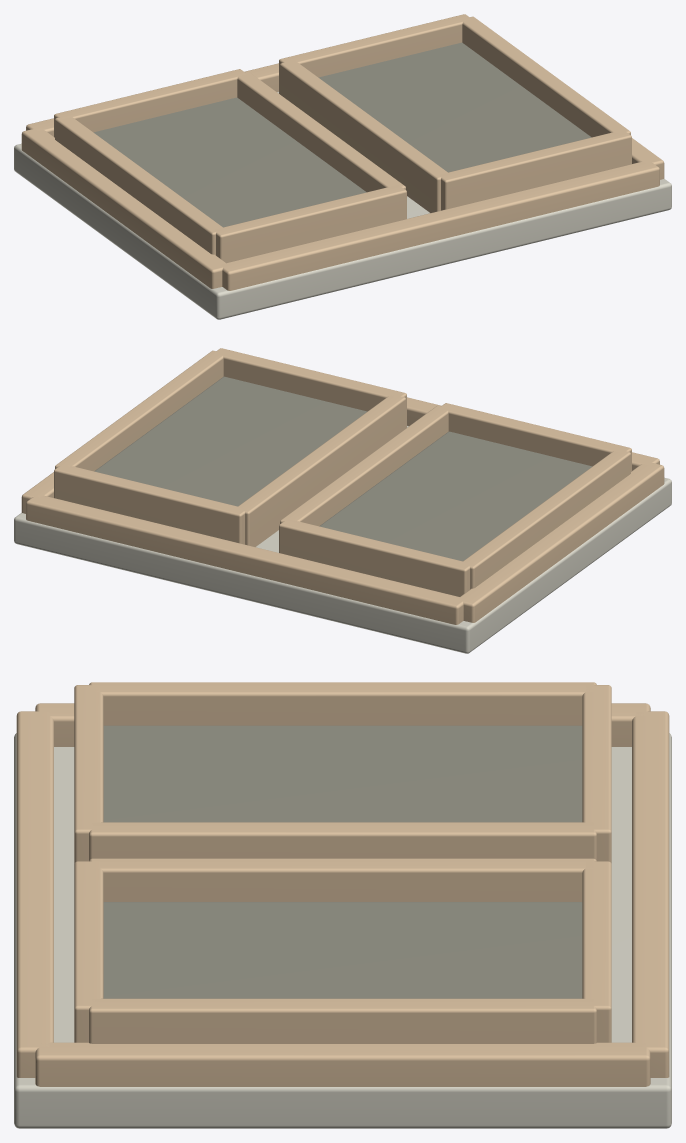
The model's file is kitchen-garden-frame.glb.
3 views of the same model, one above another, from view 1: azimuth 30°, elevation 25°; view 2: azimuth 150°, elevation 25°; view 3: azimuth 270°, elevation 25° (orthographic). The views are drawn at different scales.
Visible parts, largest first — view 1: Prepared soil.001, Prepared soil, Rounded stone footing.029, Sill beam.116, Bed side.002, Bed end.002, Sill beam.118, Bed end, Bed side, Bed side.003, Bed side.001, Bed end.003 (+3 smaller); view 2: Prepared soil.001, Prepared soil, Rounded stone footing.029, Sill beam.117, Bed side.002, Bed end.003, Sill beam.118, Bed end.001, Bed side, Bed side.003, Bed side.001, Bed end.002 (+3 smaller); view 3: Prepared soil, Prepared soil.001, Rounded stone footing.029, Sill beam.119, Bed side.003, Bed side, Bed side.002, Bed side.001, Sill beam.117, Sill beam.116, Bed end.002, Bed end.003 (+3 smaller).
Boxes of the visible parts, x1=… form: Prepared soil.001: x1=318, y1=42, x2=591, y2=172; Prepared soil: x1=93, y1=97, x2=366, y2=227; Rounded stone footing.029: x1=14, y1=92, x2=671, y2=319; Sill beam.116: x1=221, y1=161, x2=659, y2=290; Bed side.002: x1=280, y1=60, x2=447, y2=212; Bed end.002: x1=440, y1=132, x2=631, y2=210; Sill beam.118: x1=21, y1=129, x2=225, y2=288; Bed end: x1=215, y1=185, x2=406, y2=262; Bed side: x1=55, y1=117, x2=222, y2=255; Bed side.003: x1=462, y1=16, x2=630, y2=137; Bed side.001: x1=237, y1=71, x2=405, y2=192; Bed end.003: x1=279, y1=14, x2=470, y2=93; Prepared soil.001: x1=94, y1=376, x2=367, y2=506; Prepared soil: x1=319, y1=431, x2=592, y2=561; Rounded stone footing.029: x1=14, y1=426, x2=671, y2=653; Sill beam.117: x1=26, y1=495, x2=465, y2=624; Bed side.002: x1=238, y1=394, x2=405, y2=546; Bed end.003: x1=54, y1=466, x2=245, y2=544; Sill beam.118: x1=460, y1=463, x2=664, y2=622; Bed end.001: x1=279, y1=519, x2=470, y2=596; Bed side: x1=462, y1=451, x2=630, y2=589; Bed side.003: x1=55, y1=350, x2=223, y2=471; Bed side.001: x1=280, y1=405, x2=448, y2=526; Bed end.002: x1=214, y1=348, x2=406, y2=427; Prepared soil: x1=103, y1=725, x2=582, y2=822; Prepared soil.001: x1=103, y1=902, x2=582, y2=998; Rounded stone footing.029: x1=14, y1=733, x2=671, y2=1128; Sill beam.119: x1=35, y1=1042, x2=650, y2=1086; Bed side.003: x1=89, y1=998, x2=596, y2=1043; Bed side: x1=89, y1=682, x2=596, y2=725; Bed side.002: x1=89, y1=858, x2=596, y2=901; Bed side.001: x1=89, y1=822, x2=596, y2=860; Sill beam.117: x1=632, y1=711, x2=669, y2=1077; Sill beam.116: x1=16, y1=711, x2=53, y2=1077; Bed end.002: x1=74, y1=861, x2=103, y2=1042; Bed end.003: x1=582, y1=861, x2=611, y2=1042.
Bounding box in the file's own units: 3.16 × 0.44 × 2.46.
